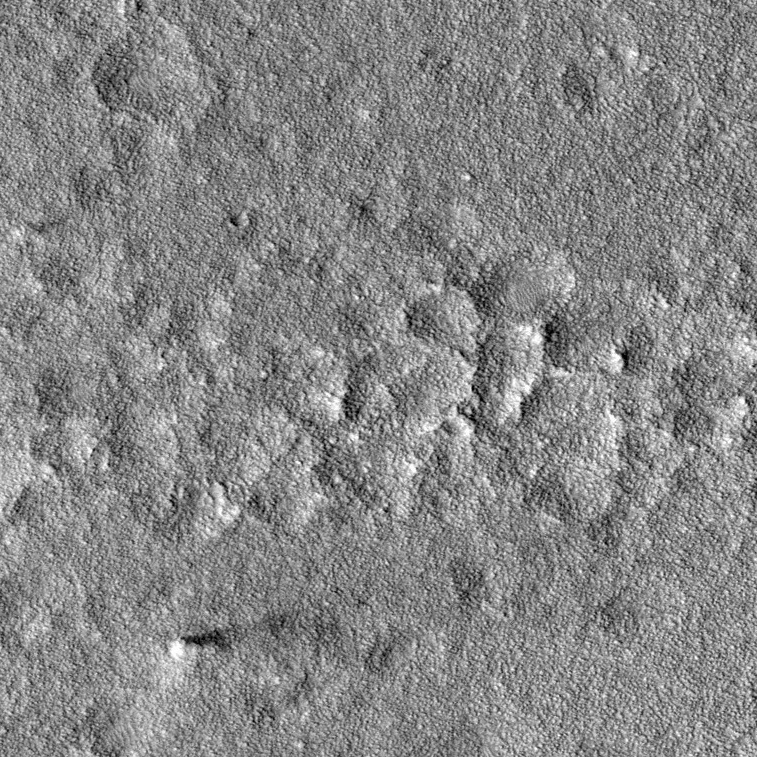dust_devil: (157, 608, 308, 689)
